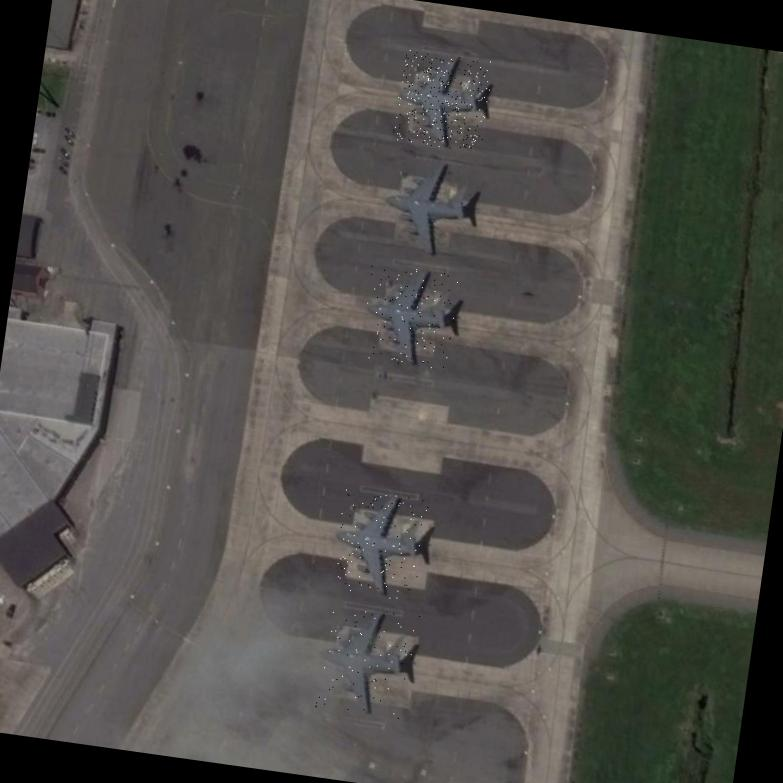A3: (311, 602, 420, 719), (378, 152, 482, 262), (328, 487, 428, 601), (357, 262, 460, 372), (391, 48, 493, 152)
